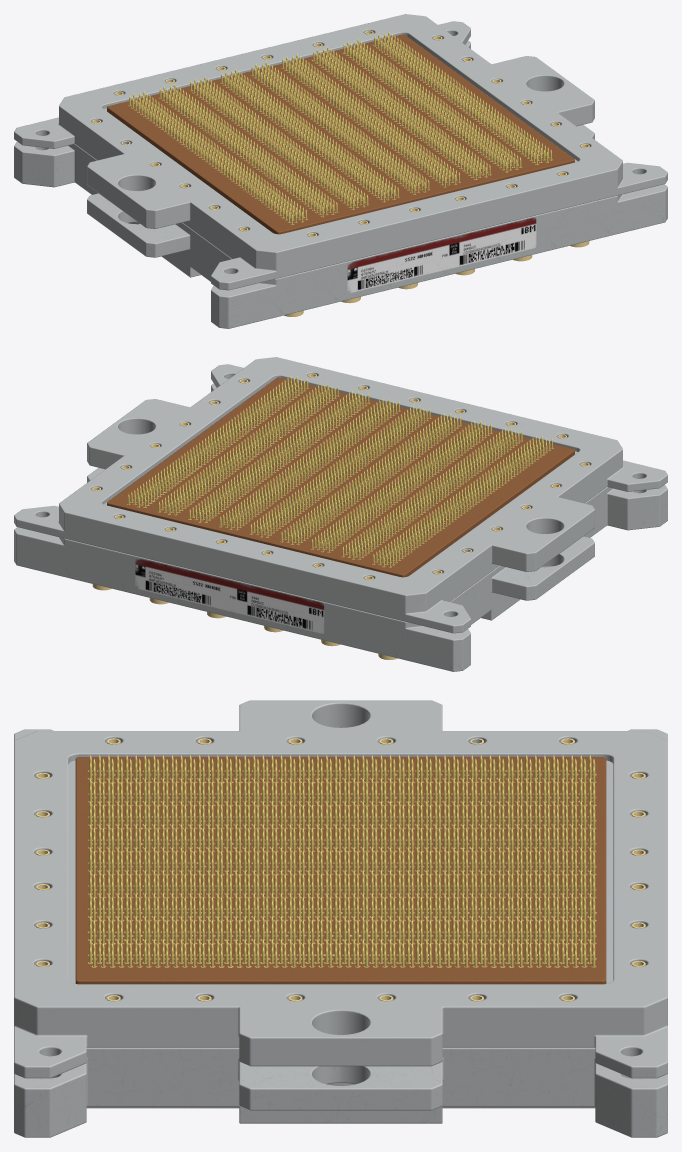
File: cpu_ibm_processor_9121.glb
3 renders of one model, top to bottom at view 1: azimuth 30°, elevation 25°; view 2: azimuth 150°, elevation 25°; view 3: azimuth 270°, elevation 25°, orthographic. The views are drawn at different scales.
Parts seen in each view (by area): view 1: TopShape_4_0 (×2), BottomShape_2_0; view 2: TopShape_4_0 (×2), BottomShape_2_0; view 3: TopShape_4_0 (×2), BottomShape_2_0.
Part boxes in pixels (<box>): TopShape_4_0 (×2): <box>14,14,667,290</box>; BottomShape_2_0: <box>14,40,667,328</box>; TopShape_4_0 (×2): <box>14,357,667,633</box>; BottomShape_2_0: <box>14,383,667,671</box>; TopShape_4_0 (×2): <box>14,700,667,1078</box>; BottomShape_2_0: <box>14,1047,667,1137</box>.
Size of the model in its own units: 22 by 4.05 by 18.
2 materials, 2 textured.
